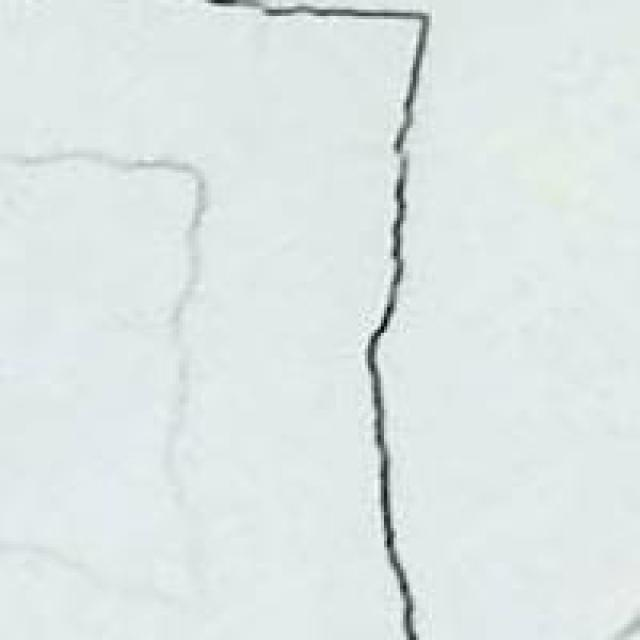Crack: (227, 0, 467, 637)
